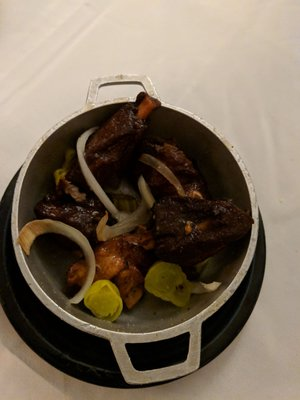sushi: (10, 93, 258, 387)
